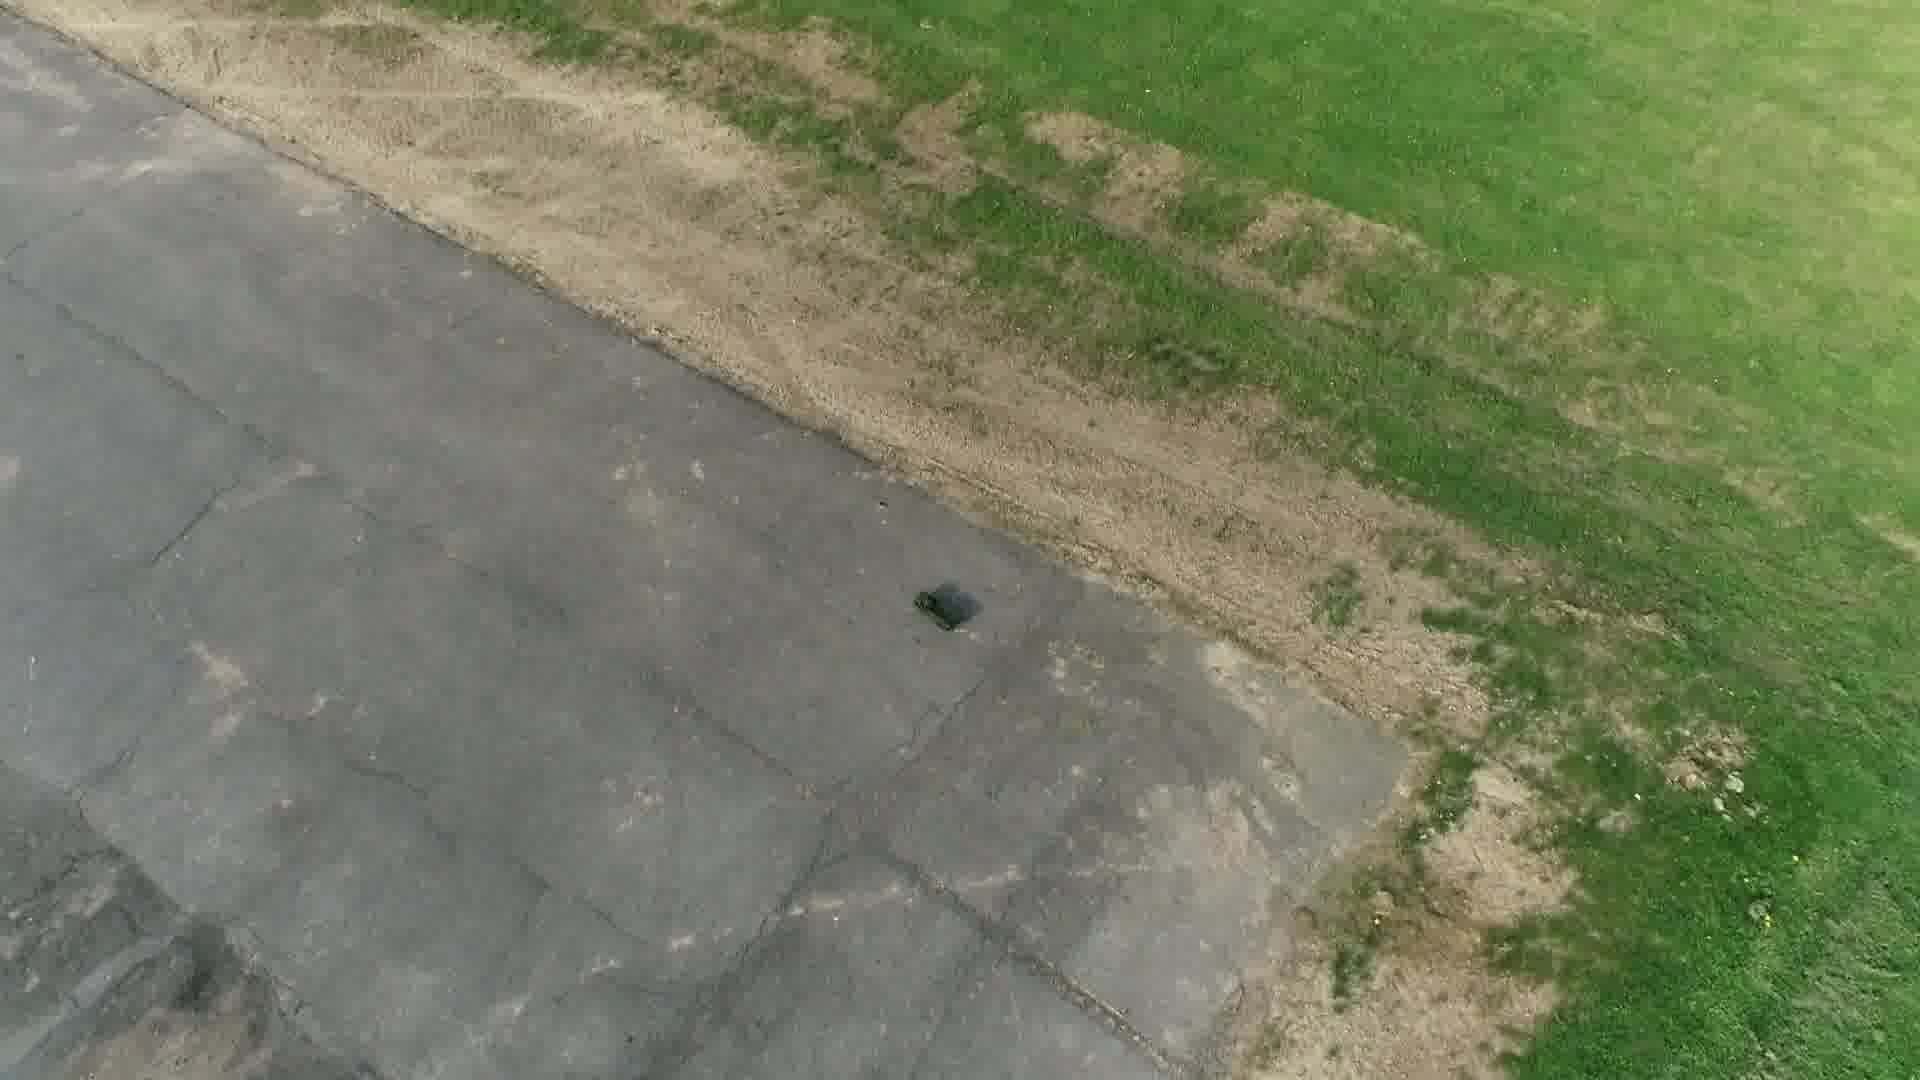transporter9: (910, 589, 963, 638)
